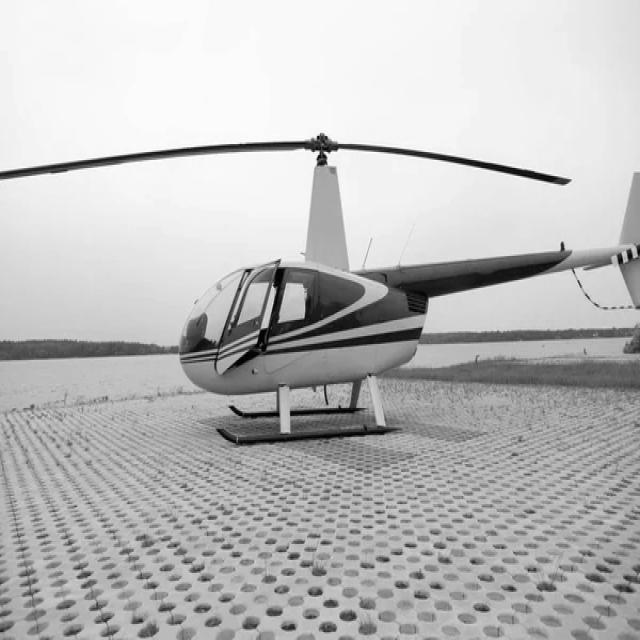Helicopter: (0, 134, 640, 436)
